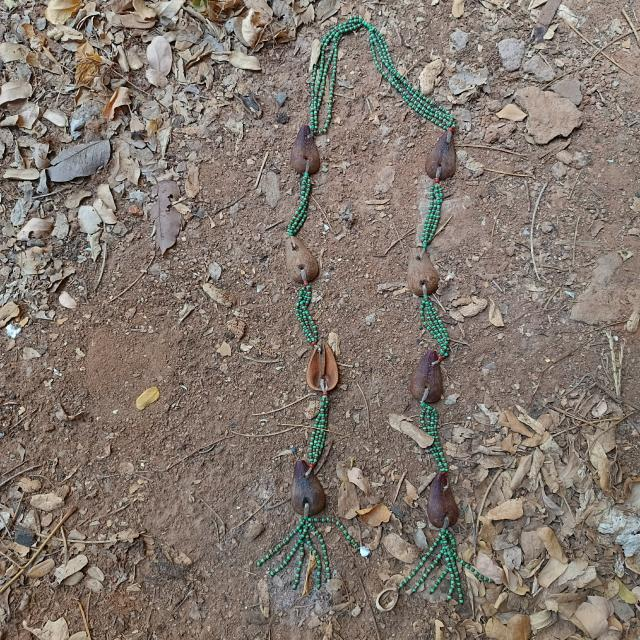facedown: (424, 463, 464, 532), (290, 454, 330, 522), (407, 344, 446, 408), (282, 228, 322, 289), (286, 121, 326, 178), (405, 239, 441, 301), (424, 124, 460, 186)
faceup: (302, 332, 342, 398)
